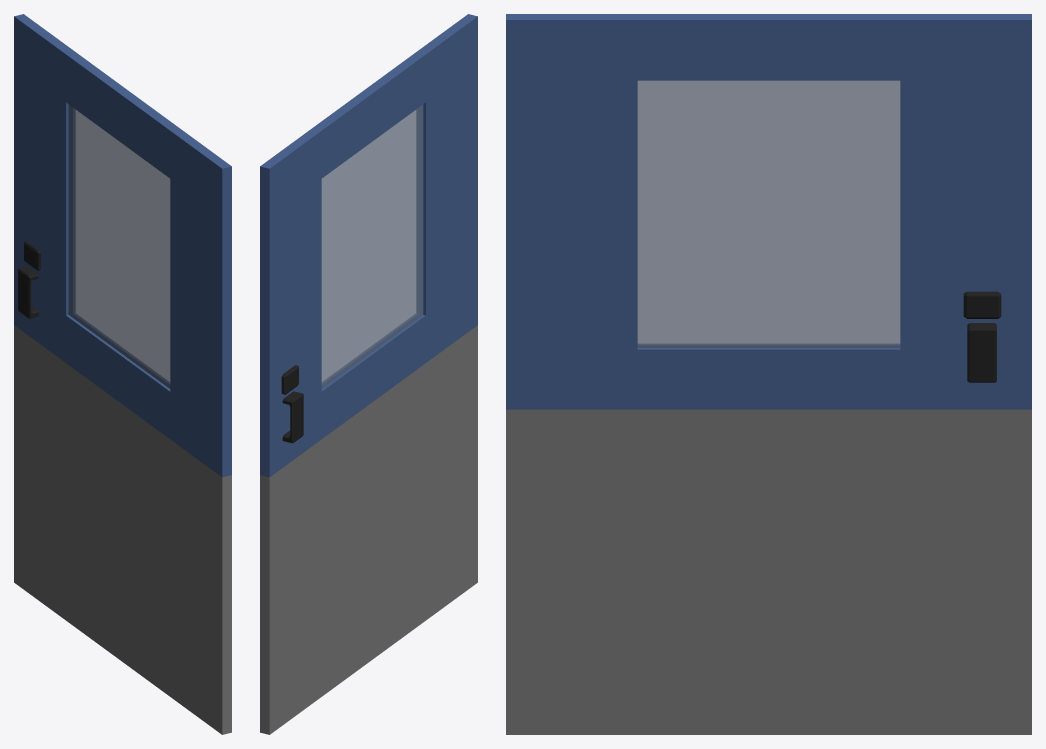
Rendered from Obj_LabDoorCR 1.fbx.
The picture shows the model from 3 angles, left to right: view 1: azimuth 30°, elevation 25°; view 2: azimuth 150°, elevation 25°; view 3: azimuth 270°, elevation 25°; orthographic projection. The views are drawn at different scales.
Visible parts, largest first — view 1: Obj_LabDoorCR; view 2: Obj_LabDoorCR; view 3: Obj_LabDoorCR.
Part boxes in pixels (x1=…): Obj_LabDoorCR: x1=14, y1=14, x2=231, y2=734; Obj_LabDoorCR: x1=260, y1=14, x2=477, y2=734; Obj_LabDoorCR: x1=506, y1=14, x2=1031, y2=734.
Bounding box in the file's own units: 0.1635 × 3 × 2.
Materials: 2 (1 with a texture image).
